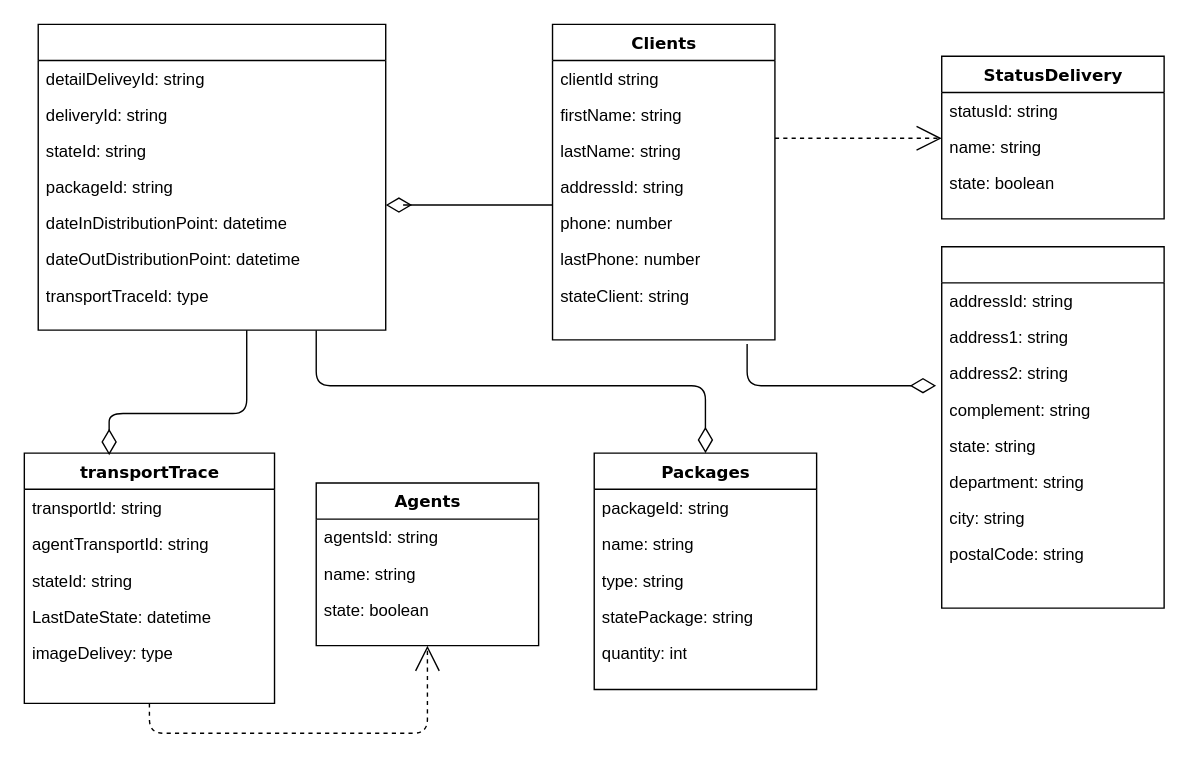
Image size: 1188x783. Some labels were removed from this diagram. The shapes that lost their labels are listed below. From the top down, each one's box as (x1, y1, x2, y2) in pixels, then its label:
(37, 23, 386, 330): DetailDelivery
(940, 245, 1164, 608): AddressClient
